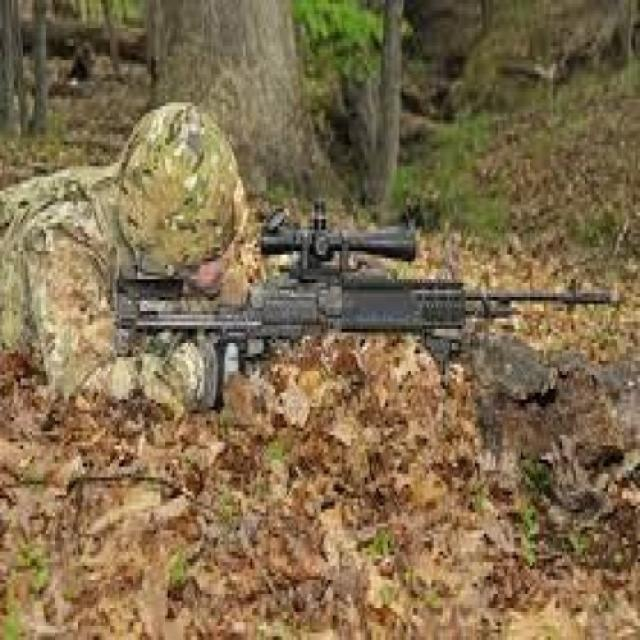Gun: (141, 207, 625, 448)
